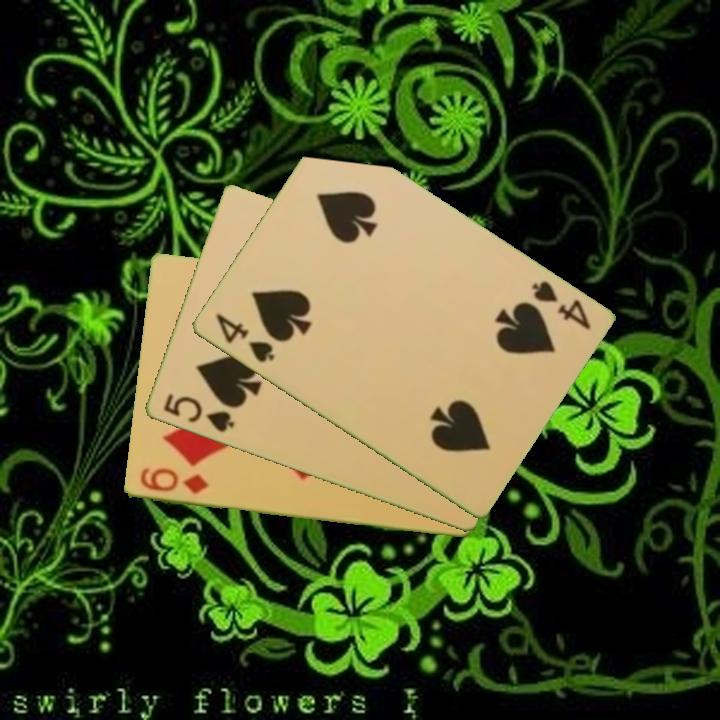4s: (211, 310, 277, 366), (527, 277, 593, 333)
5s: (159, 390, 237, 436)
6d: (136, 464, 211, 497)
